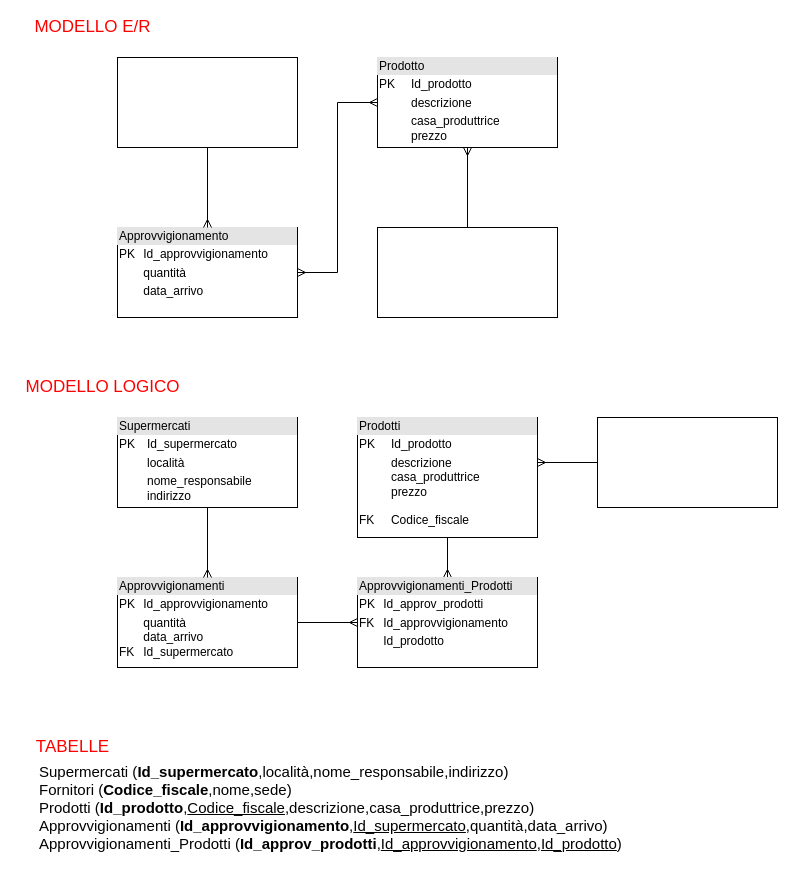
This 795x869 diagram has some shape labels left out. The shapes that lost their labels are listed below. From the top down, each one's centre as x and y in pixels, then its label:
point 207,102: Supermercato PK Id_supermercato località nome_responsabile indirizzo
point 467,272: Fornitore PK Codice_fiscale nome sede
point 687,462: Fornitori PK Codice_fiscale nome sede
